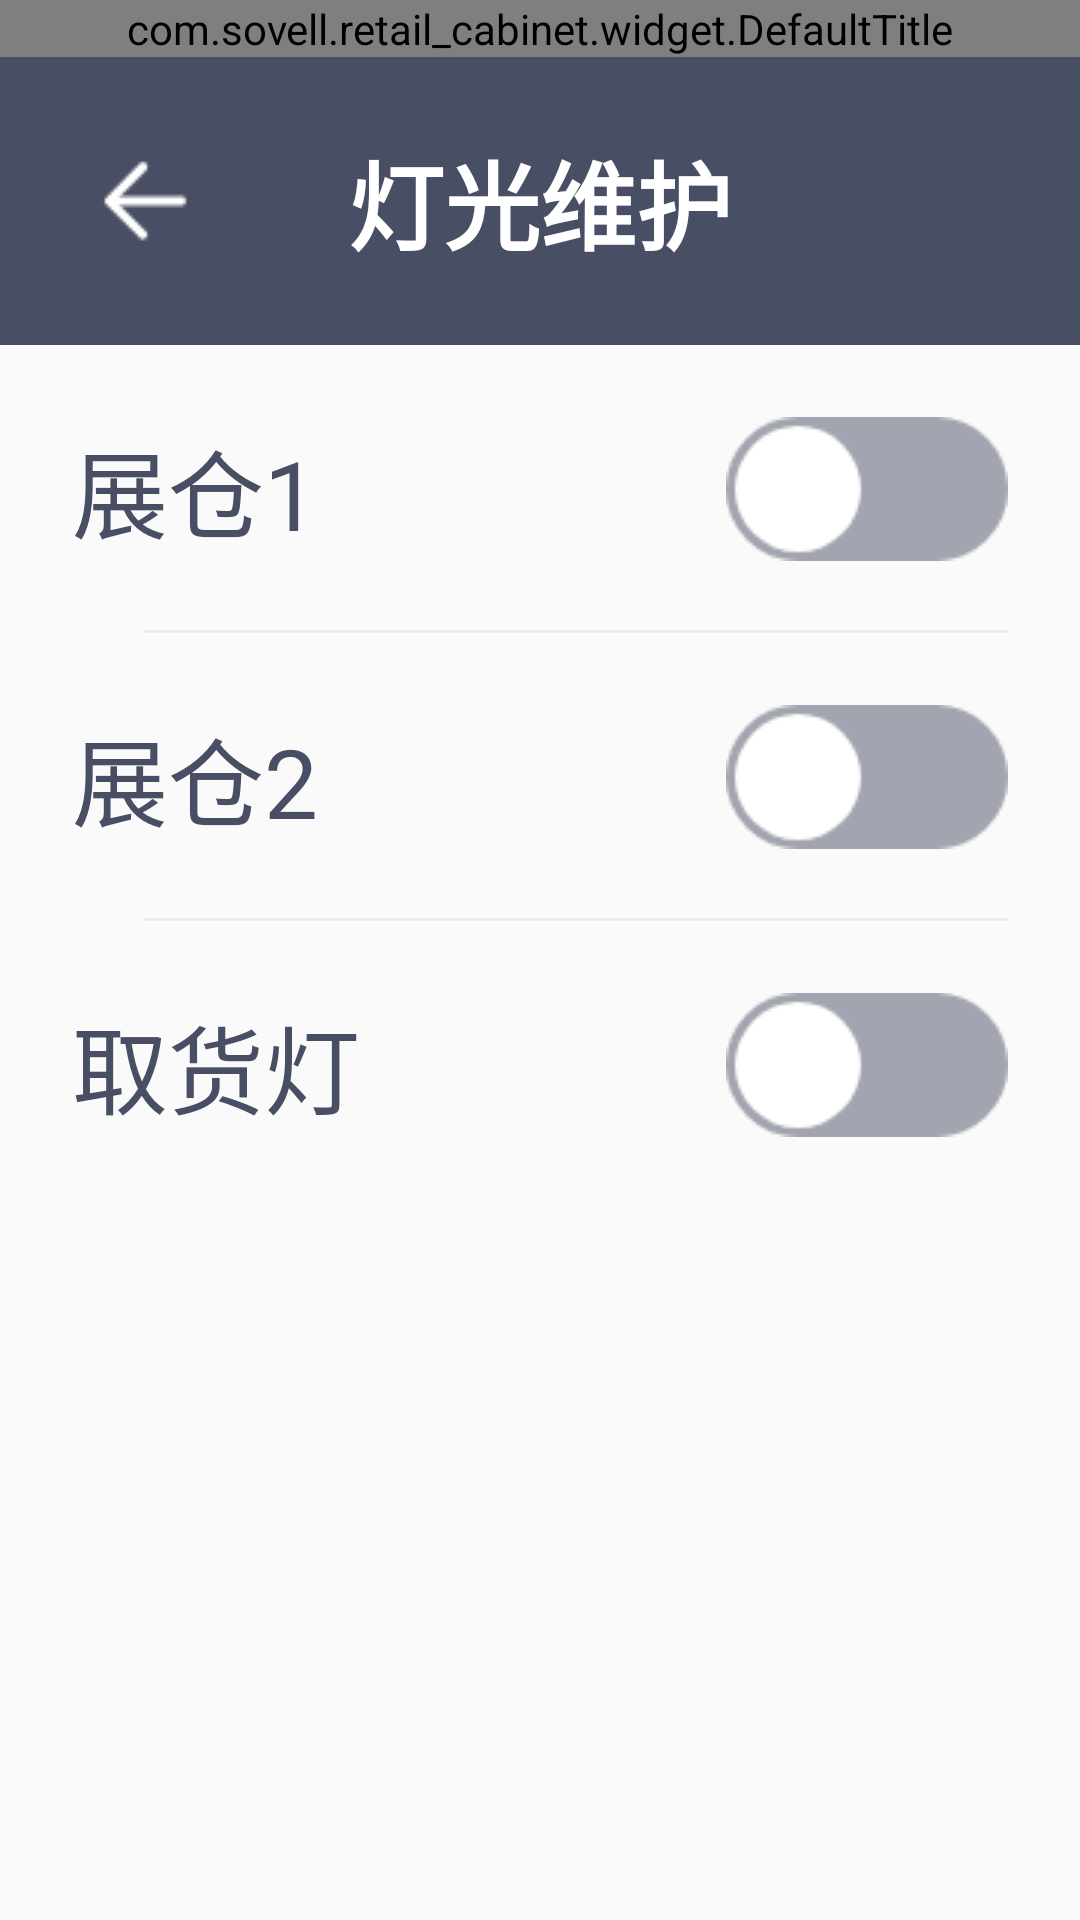

Point at icon controls on the screen. Image size 1080px×1920px, points as [x,y].
back: [145,201]
